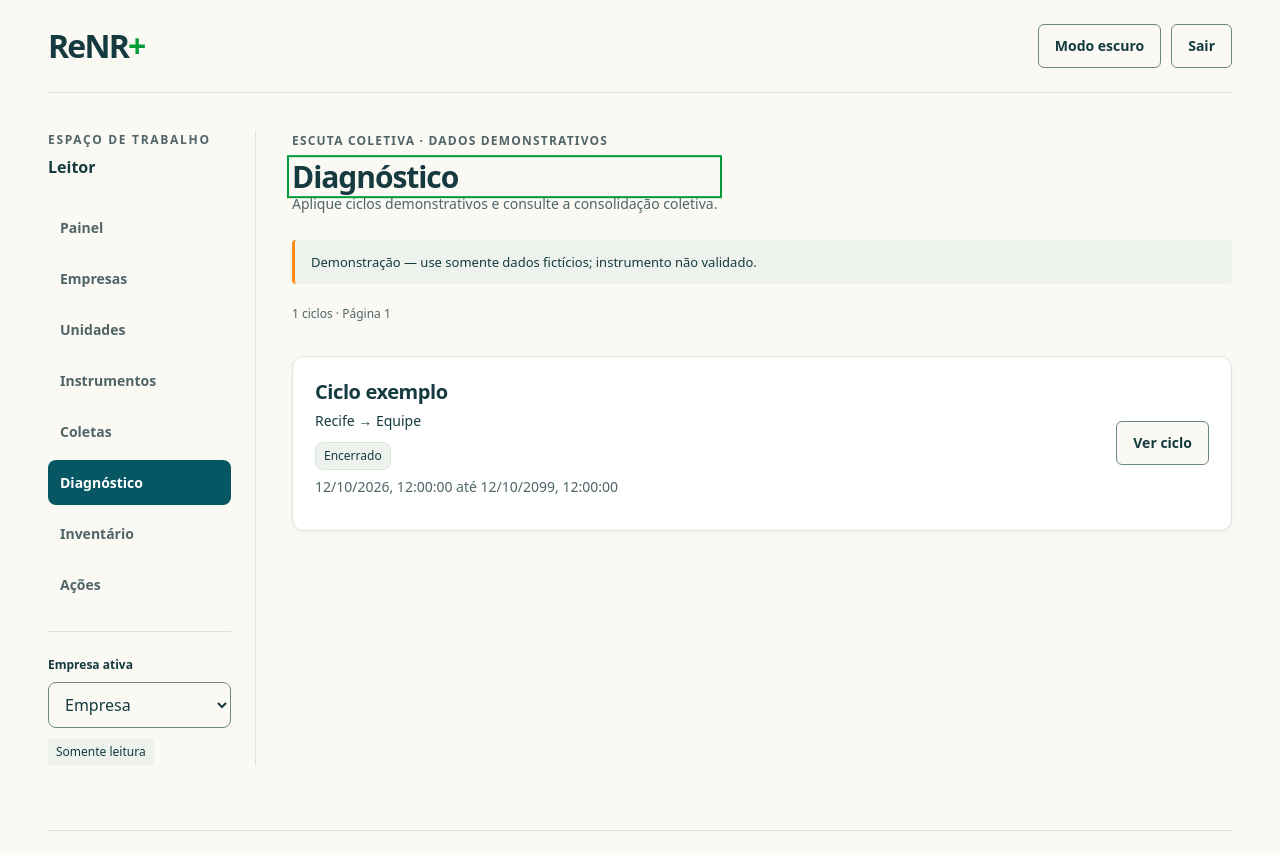
it: perfil leitor consulta ciclo e agregados sem controles administrativos
This screenshot has width=1280, height=855.
Expected: the heading "Diagnóstico" is shown, x1=292 y1=156 x2=458 y2=197
Click the button named "Ver ciclo Ciclo exemplo": (1163, 444) x1=1116 y1=422 x2=1209 y2=466
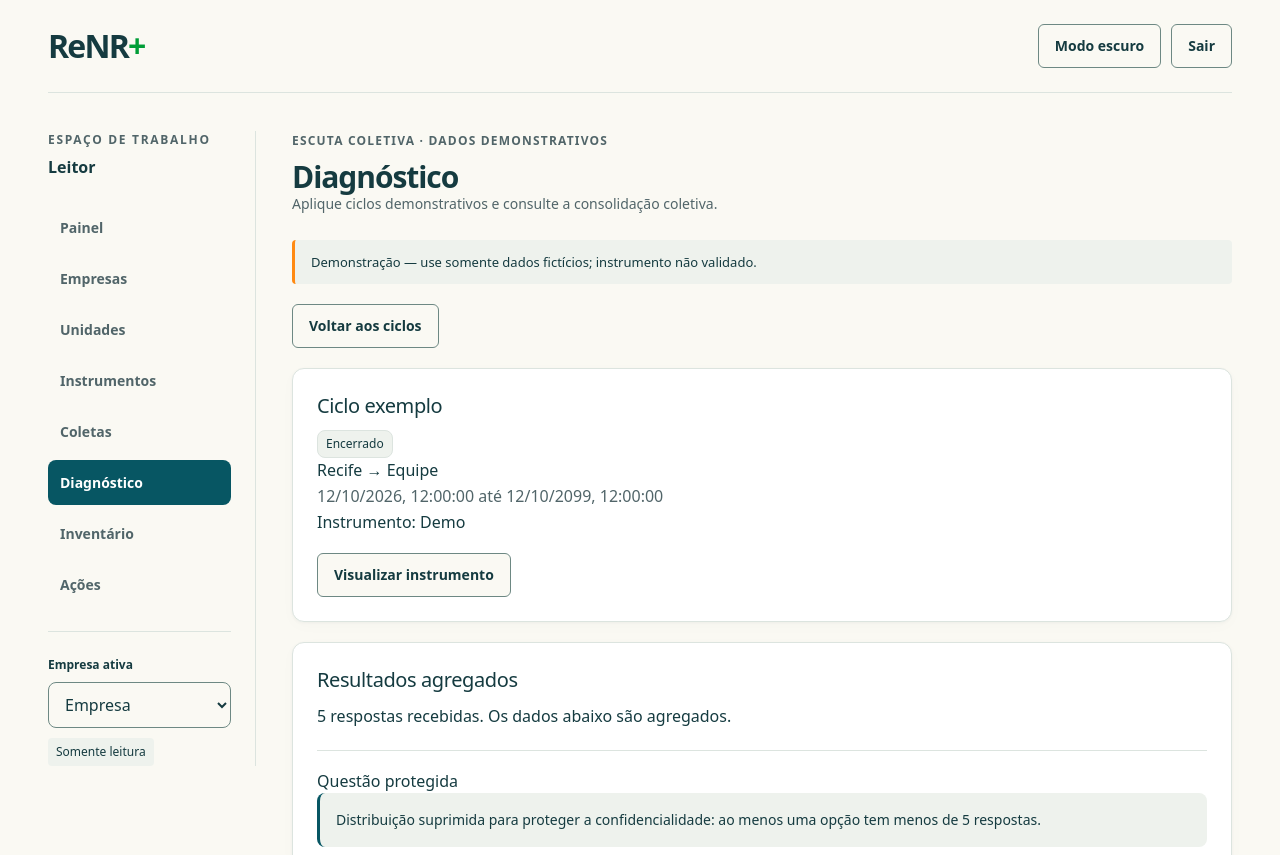
Now the text "Distribuição suprimida" is shown, box x1=336 y1=810 x2=962 y2=829
